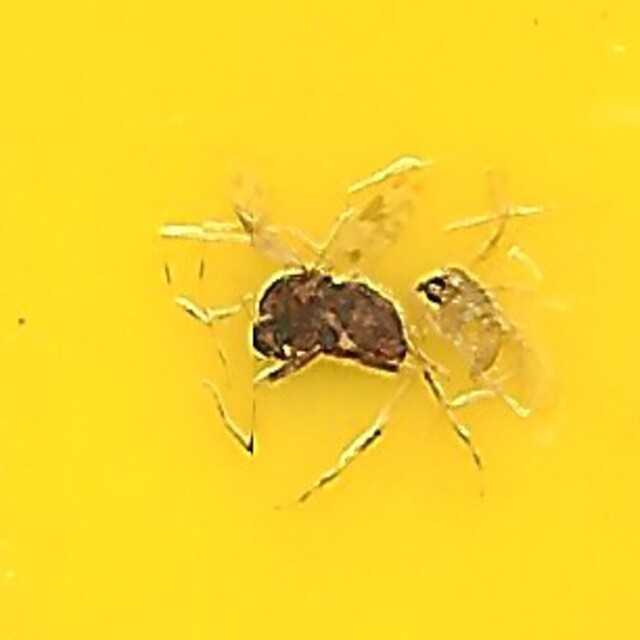Nematocera: (209, 233, 431, 407)
